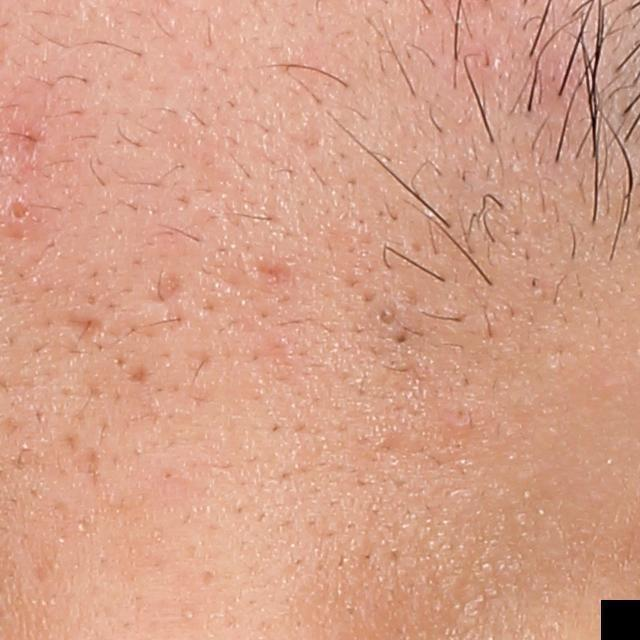atrophic_scar: (241, 258, 302, 293), (62, 315, 103, 348), (129, 362, 148, 385)
comedo: (5, 193, 32, 221), (375, 306, 401, 330)
